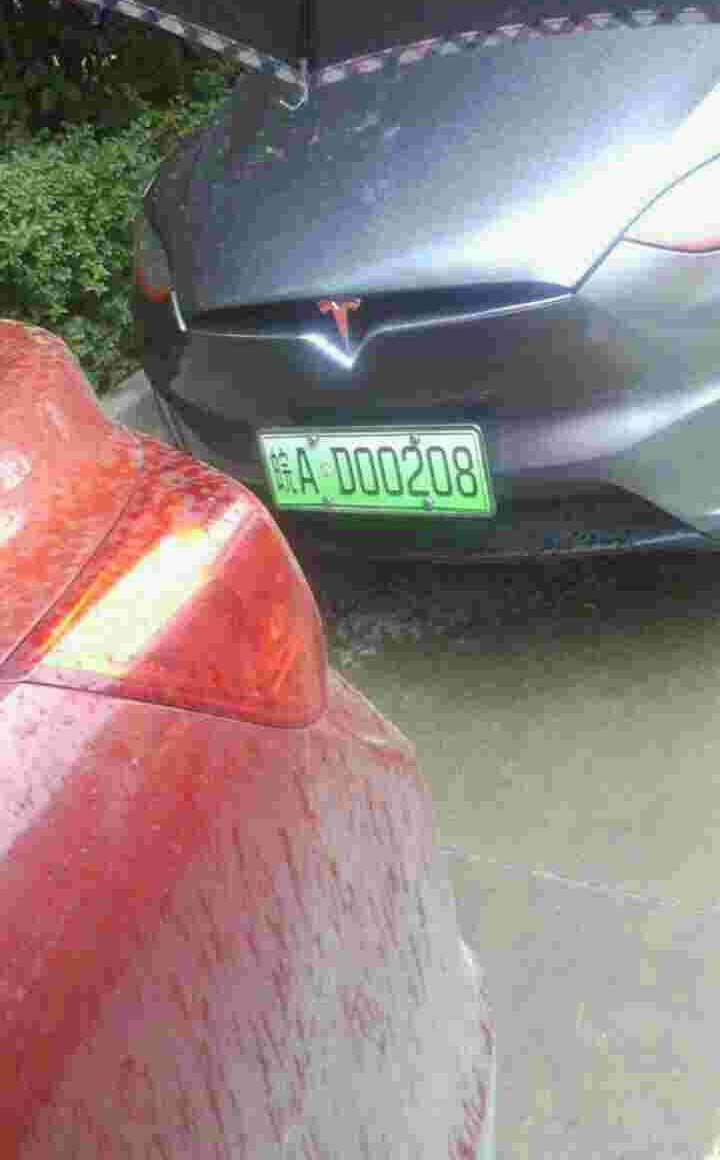car_id: (257, 430, 491, 512)
